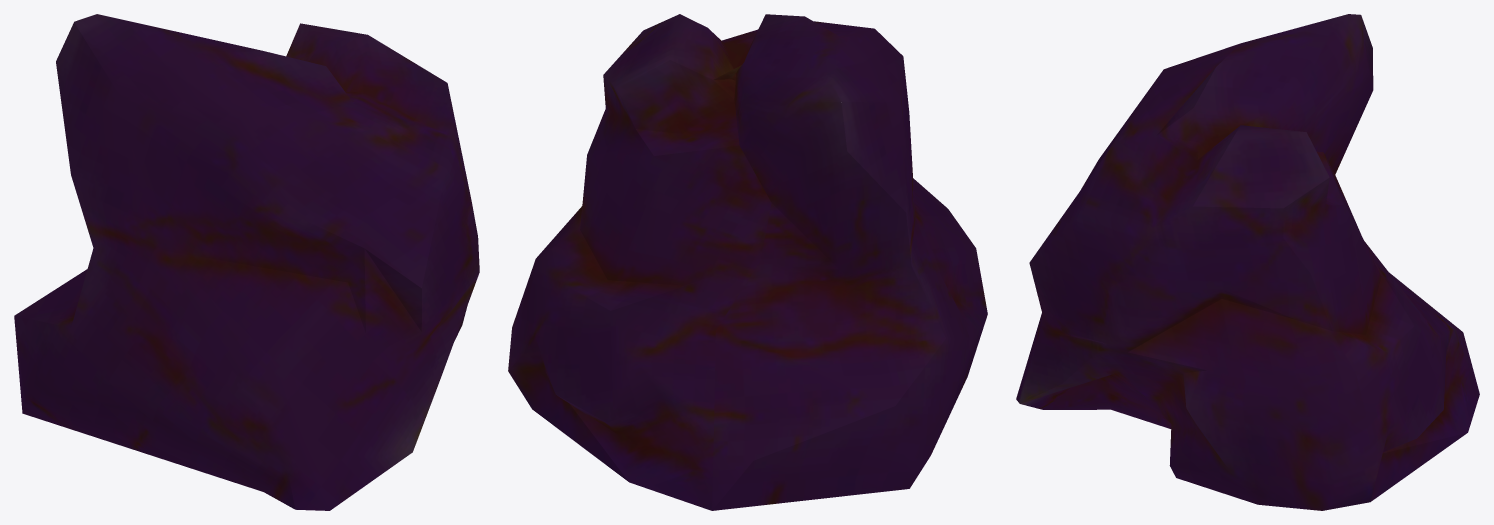
Rendered from gem_blue.glb.
The picture shows the model from 3 angles, left to right: view 1: azimuth 30°, elevation 25°; view 2: azimuth 150°, elevation 25°; view 3: azimuth 270°, elevation 25°; orthographic projection. The views are drawn at different scales.
Parts seen in each view (by area): view 1: Stone_low_1; view 2: Stone_low_1; view 3: Stone_low_1.
Part boxes in pixels (<box>): Stone_low_1: <box>14,14,479,510</box>; Stone_low_1: <box>508,14,987,510</box>; Stone_low_1: <box>1016,14,1479,510</box>.
Size of what is drawn, in the model's own units: 1.08 by 0.9787 by 1.15.
Materials: 1 (1 with a texture image).
